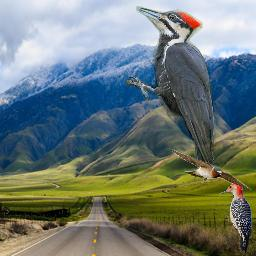Swallow: (168, 147, 252, 190)
Woodpecker: (126, 6, 222, 182), (220, 182, 252, 253)
